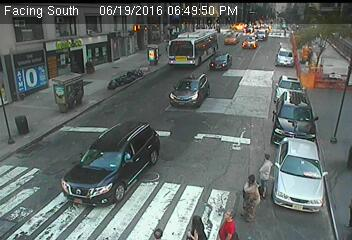neg: (301, 147, 325, 179), (205, 45, 228, 76), (264, 88, 285, 115), (175, 85, 196, 112), (149, 54, 167, 77), (279, 52, 296, 74), (287, 93, 304, 115), (154, 86, 170, 107), (242, 40, 255, 58), (183, 56, 195, 72)
pos: (233, 173, 270, 222), (250, 152, 284, 197), (215, 206, 239, 238), (187, 210, 207, 237), (153, 222, 165, 238)
